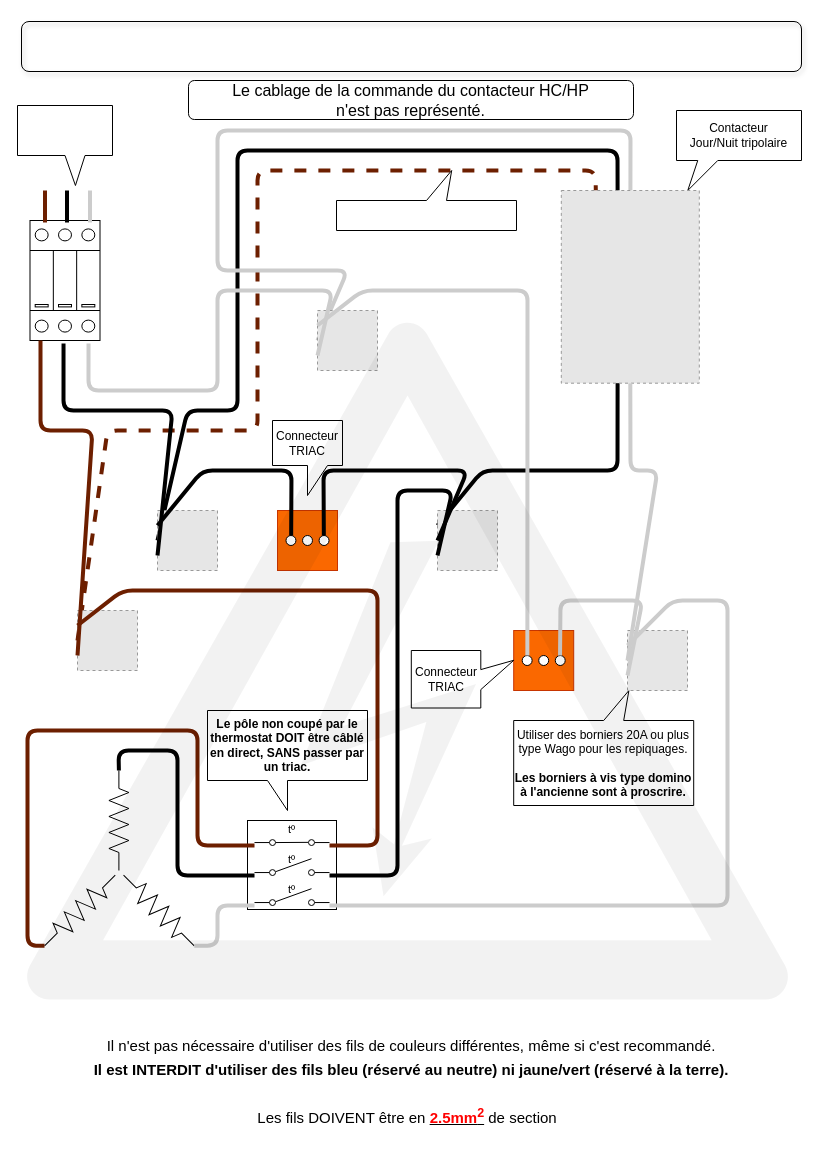
The diagram is 825 pixels wide and 1158 high, and some of its shapes have lost their labels. Grey dashed boxes stand in for pictures. The shapes that lost their labels are listed below. From the top down, each one's centre as x and y in pixels, then its label:
the point at 412,47: AVEC contacteur Jour/Nuit et thermostat mécanique triphasé
the point at 64,145: Disjoncteur tripolaire
the point at 426,200: Peut être supprimé...
